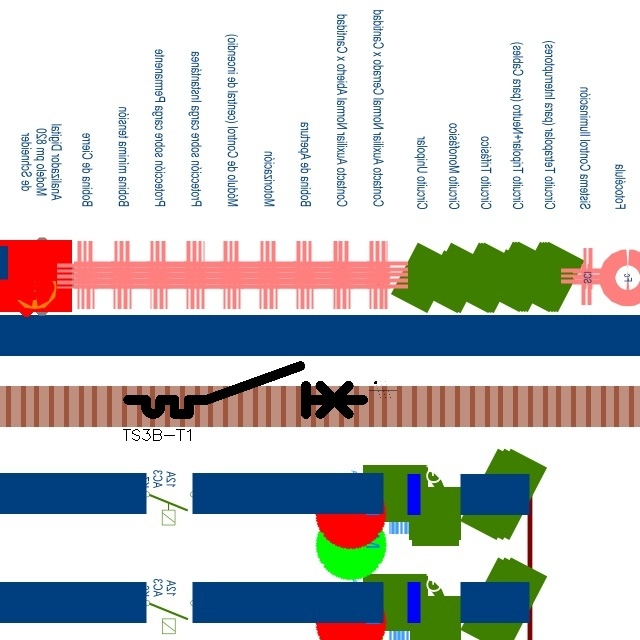interruptor_termomagnetico: (122, 360, 369, 420)
